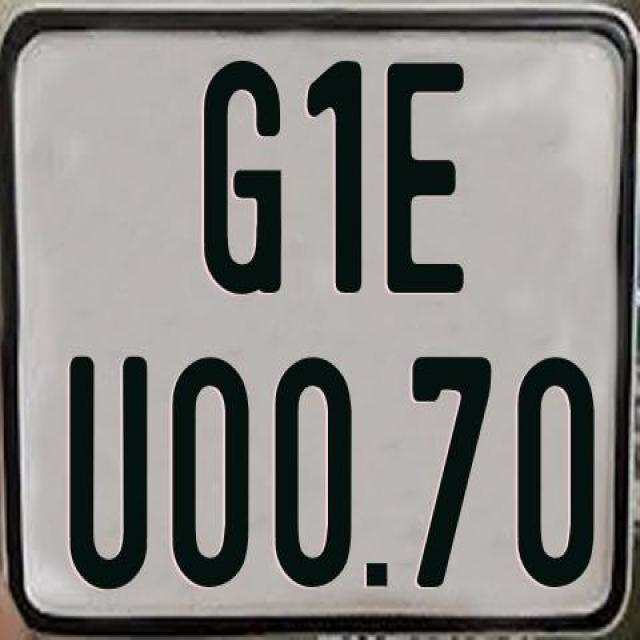0: (272, 356, 358, 588), (514, 355, 594, 595), (170, 353, 253, 584)
1: (306, 58, 362, 290)
7: (408, 357, 493, 597)
E: (384, 58, 466, 296)
G: (200, 61, 278, 294)
U: (65, 352, 147, 587)
